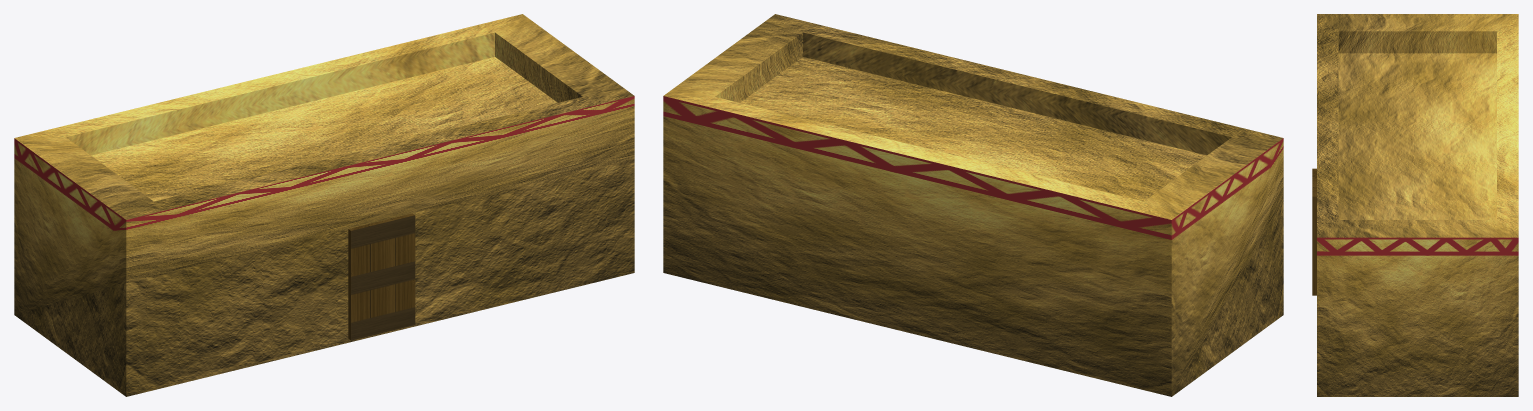
File: Bulding4.fbx
3 renders of one model, left to right at view 1: azimuth 30°, elevation 25°; view 2: azimuth 150°, elevation 25°; view 3: azimuth 270°, elevation 25°, orthographic. The views are drawn at different scales.
Visible parts, largest first — view 1: pCube2; view 2: pCube2; view 3: pCube2.
Boxes of the visible parts, left/top/right/bottom form: pCube2: left=14, top=14, right=634, bottom=396; pCube2: left=663, top=14, right=1283, bottom=396; pCube2: left=1312, top=14, right=1518, bottom=396.
Bounding box in the file's own units: 11.38 × 3.78 × 4.45.
